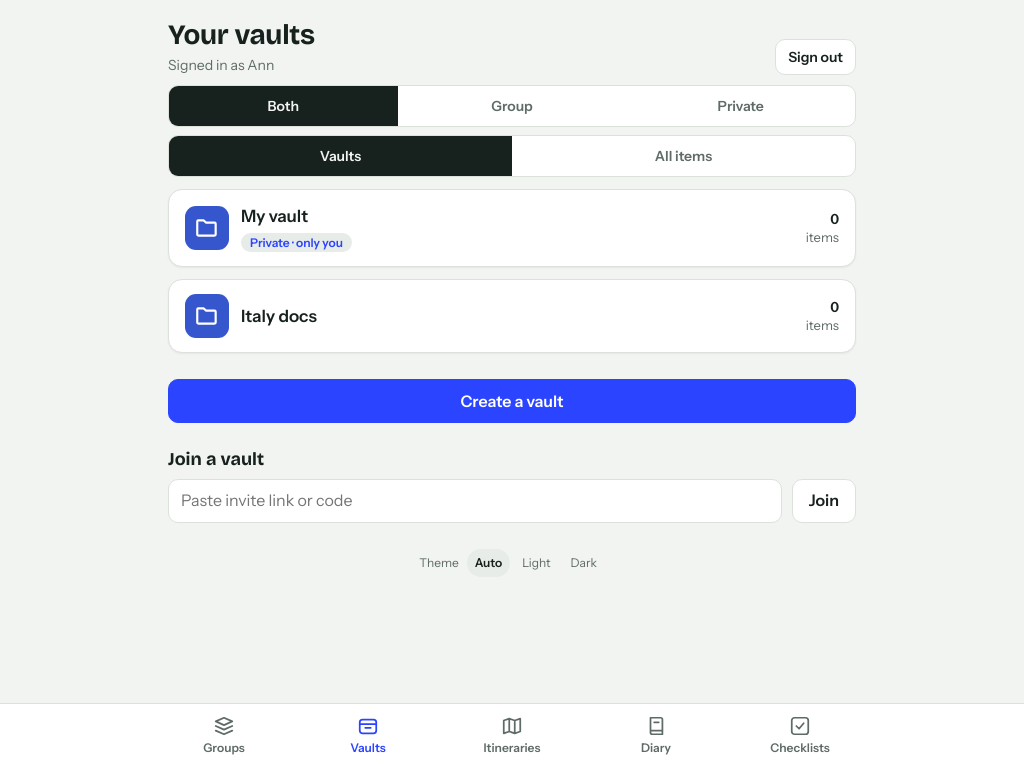
Scenario: Vaults page: Group, Private, Both › shows My vault and the group vaults together by default, and filters
Expected: the text "Italy docs" is shown, top-left (241, 306), bottom-right (317, 326)
Expected: the text "My vault" is shown, top-left (241, 206), bottom-right (308, 226)
Click the button "Group".
click(512, 106)  # box top-left (398, 86), bottom-right (626, 126)
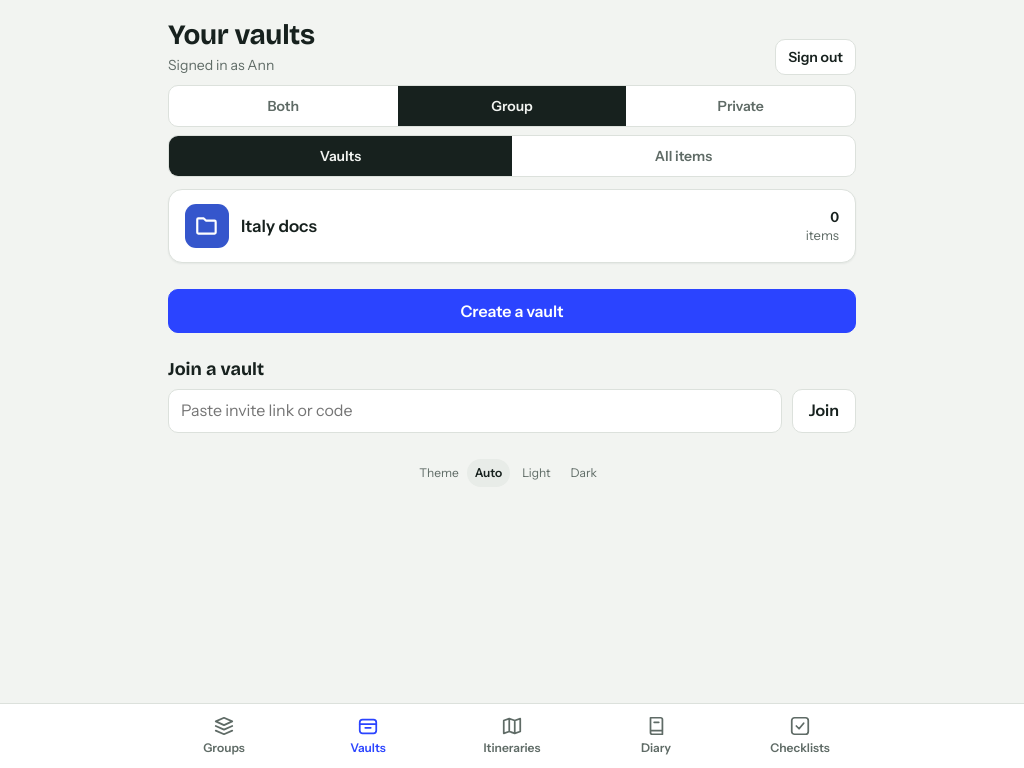
Expected: the text "Italy docs" is shown, top-left (241, 216), bottom-right (317, 236)
Expected: the link "My vault" is gone
Click the button "Private".
click(741, 106)  # box top-left (626, 86), bottom-right (855, 126)
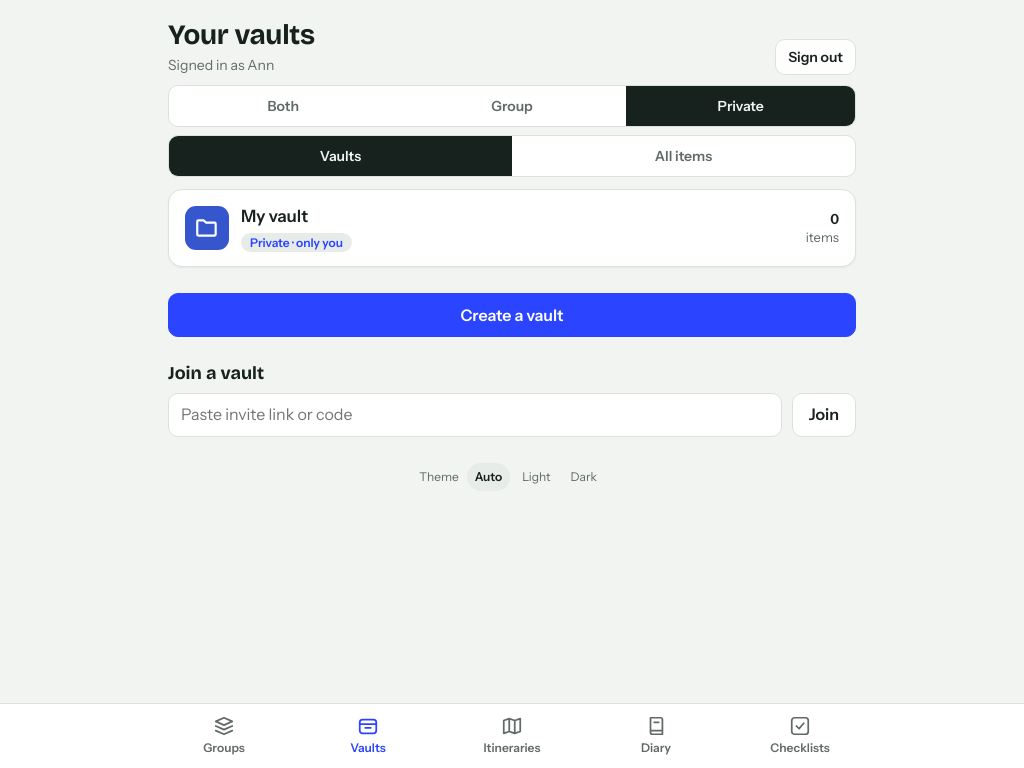
Expected: the link "Italy docs" is gone
Expected: the text "My vault" is shown, top-left (241, 206), bottom-right (308, 226)
